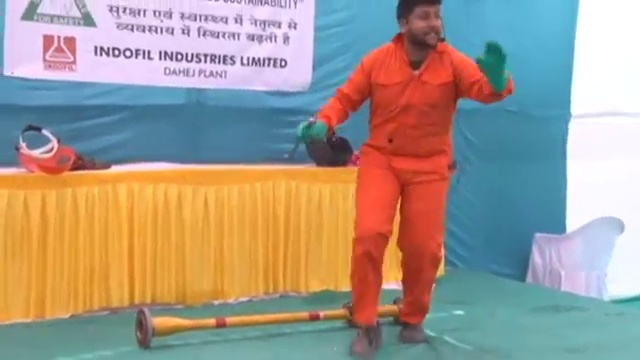helmet_off: (396, 1, 447, 53)
person: (300, 2, 513, 355)
